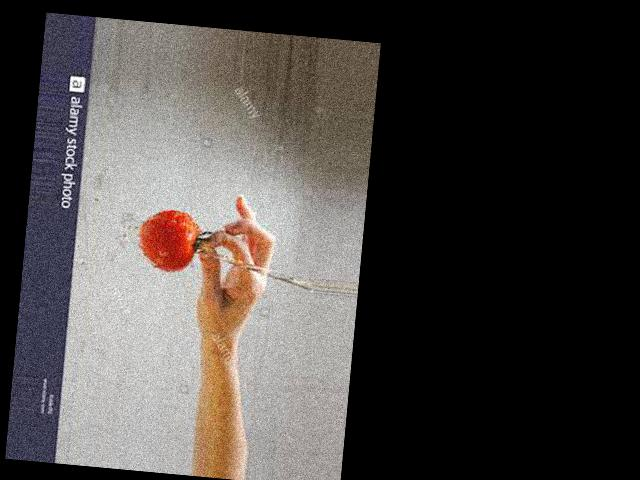tomato: (135, 209, 199, 276)
